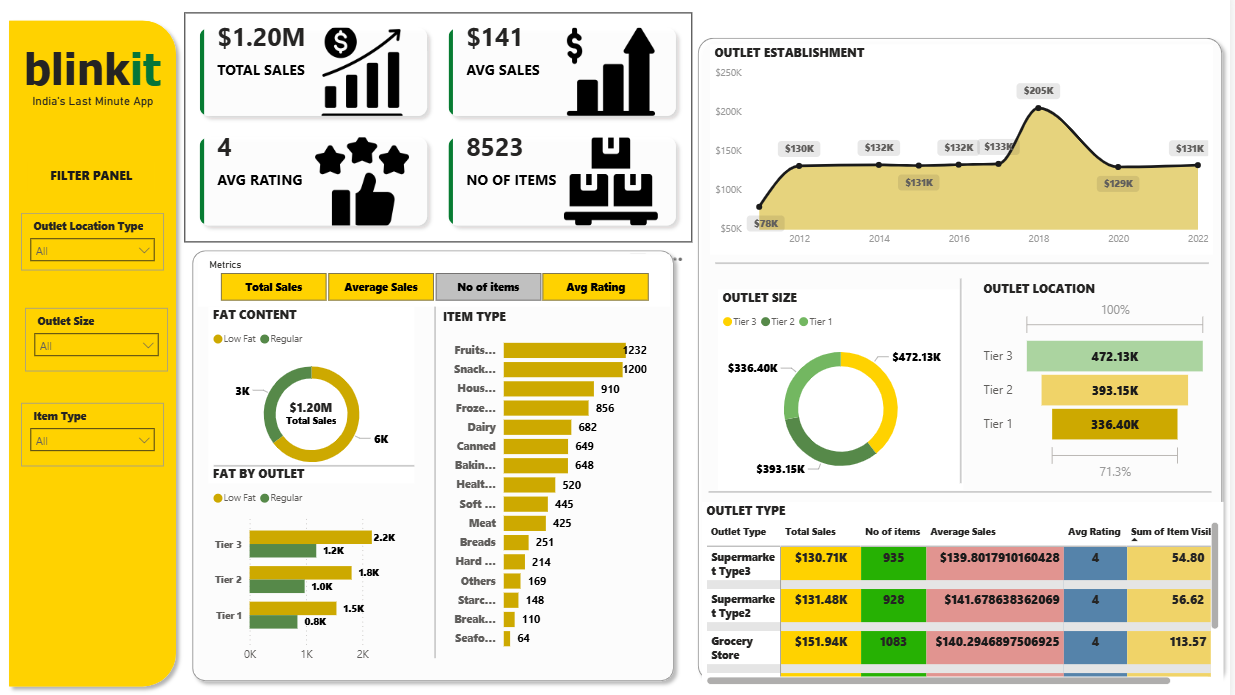

This screenshot's page, from the dashboard's own definition file:
{"tool":"powerbi","page":{"name":"Page 1","canvas":[1400,800],"ordinal":0},"visuals":[{"type":"shape","box":[21.8,23.5,205,764.5],"z":0},{"type":"textbox","box":[38.6,52.1,171.4,68.9],"z":1000},{"type":"textbox","box":[52.1,107.5,157.9,38.6],"z":2000},{"type":"cardVisual","fields":{"Data":["BlinkIT Grocery Data.Total Sales","BlinkIT Grocery Data.Average Sales","BlinkIT Grocery Data.Avg Rating","BlinkIT Grocery Data.No of items"]},"box":[227.9,24,569.7,257.9],"z":3000},{"type":"shape","box":[227.9,281.8,557.7,500.7],"z":4000},{"type":"donutChart","title":" FAT CONTENT","fields":{"Y":["BlinkIT Grocery Data.No of items"],"Category":["BlinkIT Grocery Data.Item Fat Content"]},"box":[254.9,353.8,230.9,197.9],"z":5000},{"type":"slicer","fields":{"Values":["Metrics.Metrics"]},"box":[242.9,295.3,529.2,58.5],"z":6000},{"type":"cardVisual","fields":{"Data":["BlinkIT Grocery Data.Total Sales"]},"box":[310.3,439.2,119.9,67.5],"z":7000},{"type":"clusteredBarChart","title":"FAT BY OUTLET","fields":{"Y":["BlinkIT Grocery Data.No of items"],"Category":["BlinkIT Grocery Data.Outlet Location Type"],"Series":["BlinkIT Grocery Data.Item Fat Content"]},"box":[254.9,532.2,220.4,229.4],"z":8000},{"type":"shape","box":[260.8,520.2,224.9,24],"z":9000},{"type":"shape","box":[340.3,353.8,337.3,394.3],"z":10000},{"type":"barChart","title":"ITEM TYPE","fields":{"Y":["BlinkIT Grocery Data.No of items"],"Category":["BlinkIT Grocery Data.Item Type"]},"box":[512.7,355.3,238.4,392.8],"z":11000},{"type":"shape","box":[794.5,43.5,605.7,739.1],"z":12000},{"type":"lineChart","title":"OUTLET ESTABLISHMENT","fields":{"Y":["BlinkIT Grocery Data.Total Sales"],"Category":["BlinkIT Grocery Data.Outlet Establishment Year"]},"box":[817,60,563.7,235.4],"z":13000},{"type":"shape","box":[823,275.8,553.2,58.5],"z":14000},{"type":"donutChart","title":" OUTLET SIZE","fields":{"Y":["BlinkIT Grocery Data.Total Sales"],"Category":["BlinkIT Grocery Data.Outlet Location Type"]},"box":[826,334.3,275,225],"z":15000},{"type":"funnel","title":"OUTLET LOCATION","fields":{"Category":["BlinkIT Grocery Data.Outlet Location Type"],"Y":["Sum(BlinkIT Grocery Data.Sales)"]},"box":[1118.4,323.8,260.8,229.4],"z":16000},{"type":"shape","box":[815.5,532.2,563.7,58.5],"z":17000},{"type":"shape","box":[929.5,322.3,337.3,229.4],"z":18000},{"type":"pivotTable","title":"OUTLET TYPE","fields":{"Rows":["BlinkIT Grocery Data.Outlet Type"],"Values":["BlinkIT Grocery Data.Total Sales","BlinkIT Grocery Data.No of items","BlinkIT Grocery Data.Average Sales","BlinkIT Grocery Data.Avg Rating","Sum(BlinkIT Grocery Data.Item Visibility)"]},"box":[808,572.7,584.7,209.9],"z":19000},{"type":"slicer","fields":{"Values":["BlinkIT Grocery Data.Outlet Location Type"]},"box":[44.6,249.5,160.3,64.4],"z":20000},{"type":"slicer","fields":{"Values":["BlinkIT Grocery Data.Outlet Size"]},"box":[49.6,355.3,160.3,71.1],"z":21000},{"type":"slicer","fields":{"Values":["BlinkIT Grocery Data.Item Type"]},"box":[44.6,461,160.3,71.1],"z":22000},{"type":"textbox","box":[52.9,191.7,142.1,31.4],"z":23000}]}

Visuals, with their boxes in screenshot pixels (x1, y1, x2, y2), scaled from the page's 1400x800 canvas onto the 1235x695 screenshot:
shape: l=19, t=20, r=200, b=685
textbox: l=34, t=45, r=185, b=105
textbox: l=46, t=93, r=185, b=127
cardVisual - BlinkIT Grocery Data.Total Sales x BlinkIT Grocery Data.Average Sales: l=201, t=21, r=704, b=245
shape: l=201, t=245, r=693, b=680
" FAT CONTENT" donutChart: l=225, t=307, r=429, b=479
slicer - Metrics.Metrics: l=214, t=257, r=681, b=307
cardVisual - BlinkIT Grocery Data.Total Sales: l=274, t=382, r=379, b=440
"FAT BY OUTLET" clusteredBarChart: l=225, t=462, r=419, b=662
shape: l=230, t=452, r=428, b=473
shape: l=300, t=307, r=598, b=650
"ITEM TYPE" barChart: l=452, t=309, r=663, b=650
shape: l=701, t=38, r=1234, b=680
"OUTLET ESTABLISHMENT" lineChart: l=721, t=52, r=1218, b=257
shape: l=726, t=240, r=1214, b=290
" OUTLET SIZE" donutChart: l=729, t=290, r=971, b=486
"OUTLET LOCATION" funnel: l=987, t=281, r=1217, b=481
shape: l=719, t=462, r=1217, b=513
shape: l=820, t=280, r=1117, b=479
"OUTLET TYPE" pivotTable: l=713, t=498, r=1229, b=680
slicer - BlinkIT Grocery Data.Outlet Location Type: l=39, t=217, r=181, b=273
slicer - BlinkIT Grocery Data.Outlet Size: l=44, t=309, r=185, b=370
slicer - BlinkIT Grocery Data.Item Type: l=39, t=400, r=181, b=462
textbox: l=47, t=167, r=172, b=194
